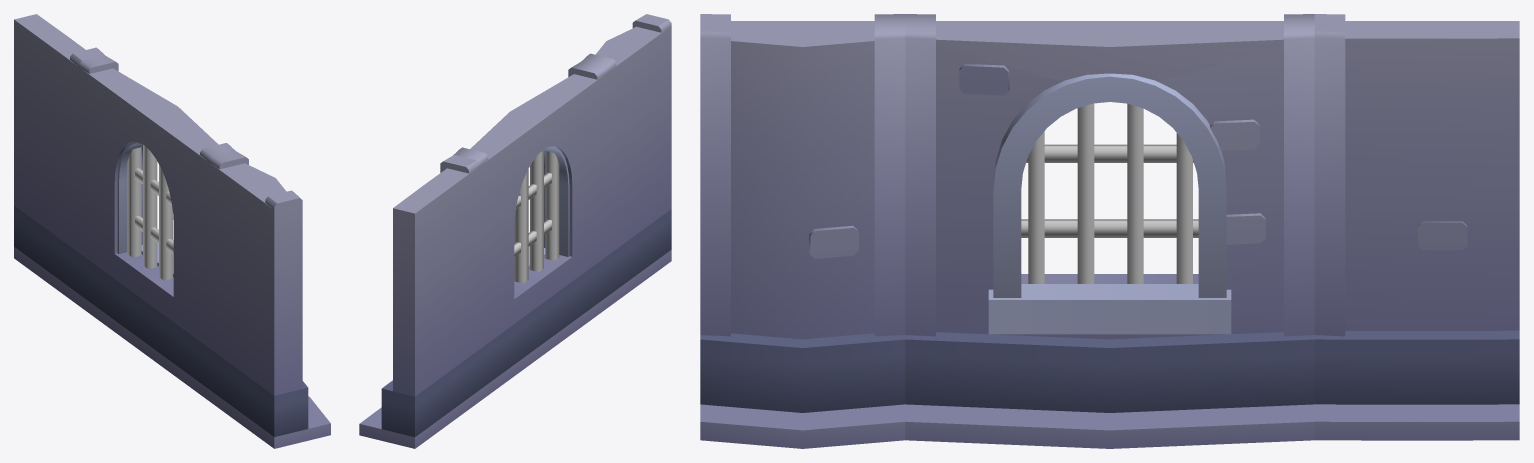
File: corridor-wide-window-leftflat.fbx
The picture shows the model from 3 angles, left to right: view 1: azimuth 30°, elevation 25°; view 2: azimuth 150°, elevation 25°; view 3: azimuth 270°, elevation 25°; orthographic projection. The views are drawn at different scales.
Parts seen in each view (by area): view 1: corridor-wide.011; view 2: corridor-wide.011; view 3: corridor-wide.011.
Boxes of the visible parts, x1,y1,x2,y2 form: corridor-wide.011: (14, 14, 330, 448); corridor-wide.011: (359, 14, 671, 448); corridor-wide.011: (700, 14, 1519, 448).
Bounding box in the file's own units: 48.08 × 166 × 320.
